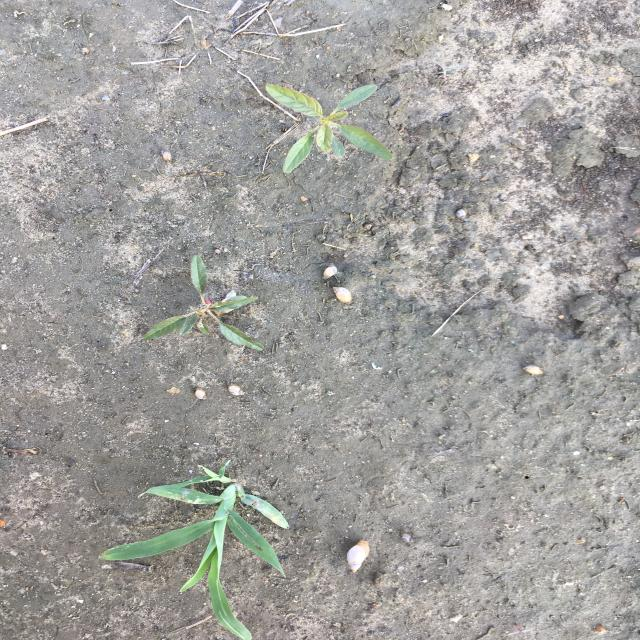Goosegrass: (96, 455, 292, 635)
Waterhemp: (141, 255, 266, 352), (264, 83, 395, 174)
